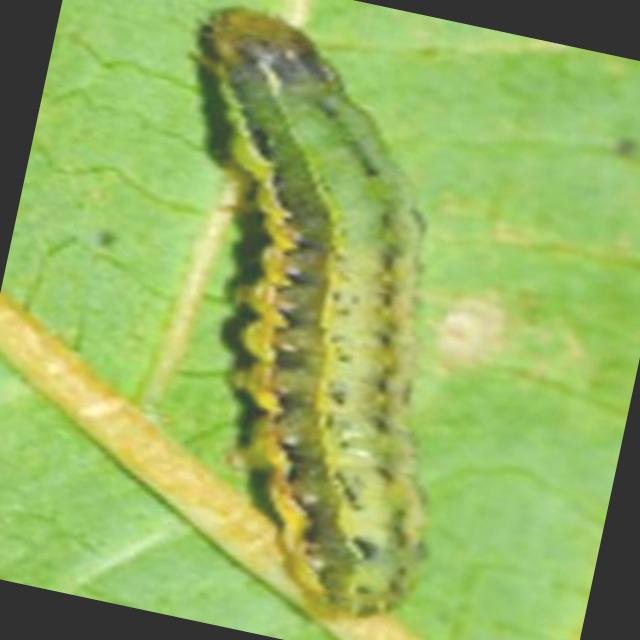Beet armyworm: (35, 0, 583, 640)
